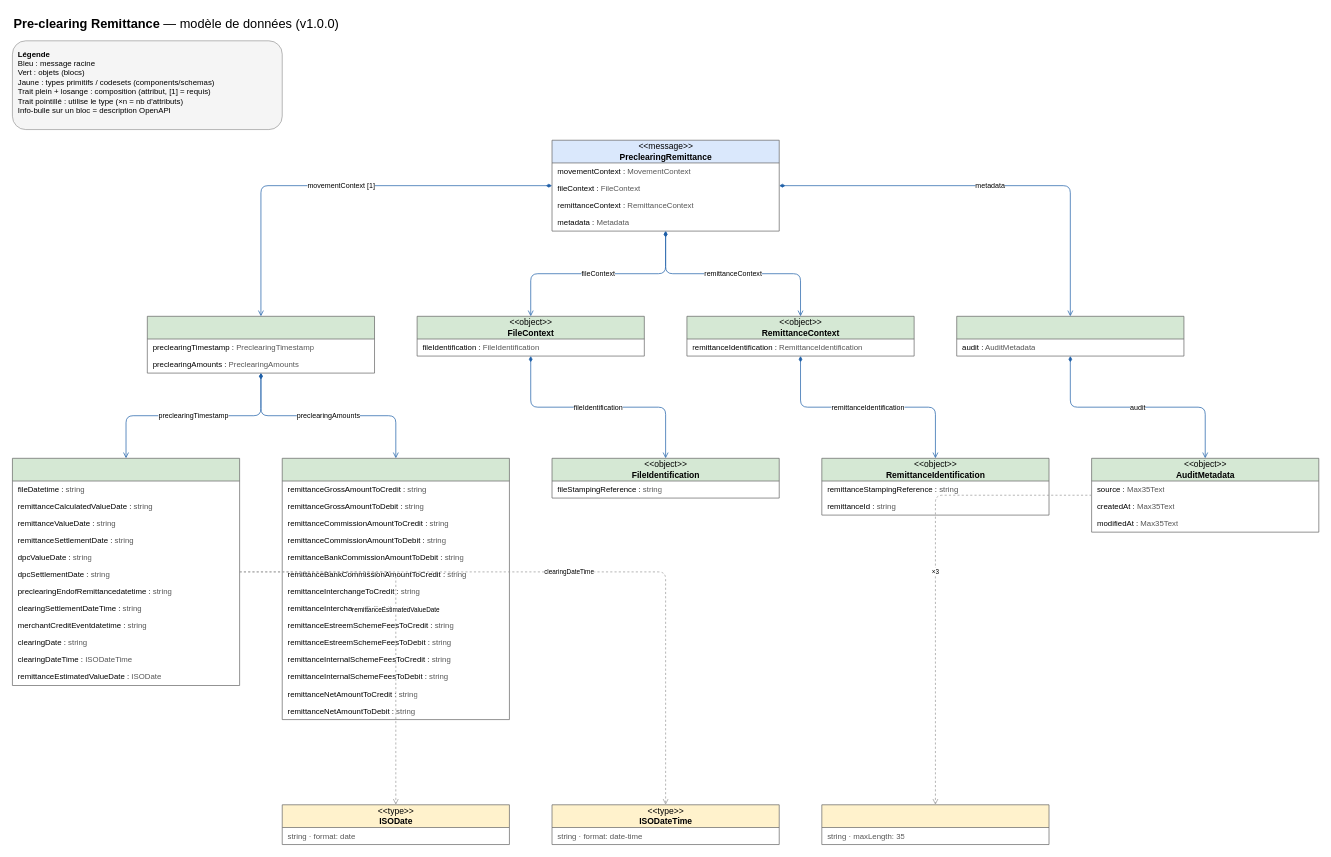
This 1331x857 diagram has some shape labels left out. Here are the shapes that lost their labels. From the top down, the box of each, then its label:
(147, 316, 375, 373): <<object>> MovementContext
(956, 316, 1184, 356): <<object>> Metadata
(12, 458, 240, 686): <<object>> PreclearingTimestamp
(282, 458, 509, 720): <<object>> PreclearingAmounts
(821, 804, 1049, 845): <<type>> Max35Text
